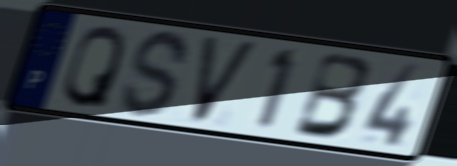1: (253, 46, 300, 134)
4: (360, 59, 419, 151)
B: (289, 49, 374, 142)
Q: (60, 22, 128, 111)
S: (118, 27, 193, 120)
V: (190, 33, 262, 128)
